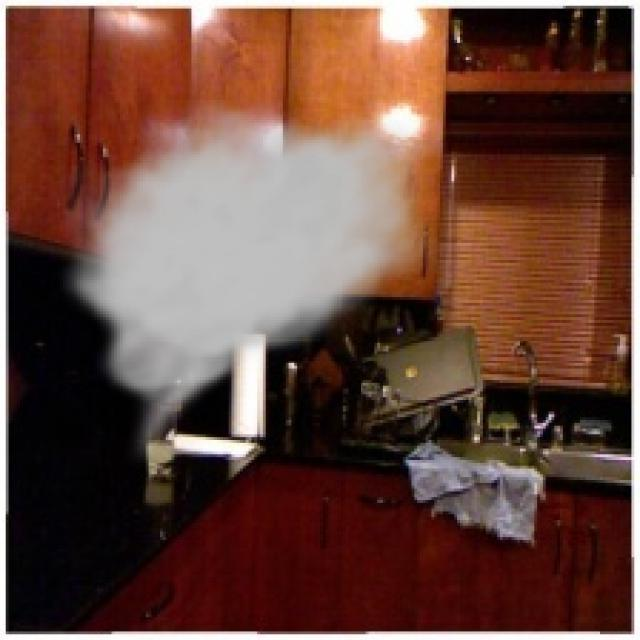Smoke: (54, 100, 449, 469)
